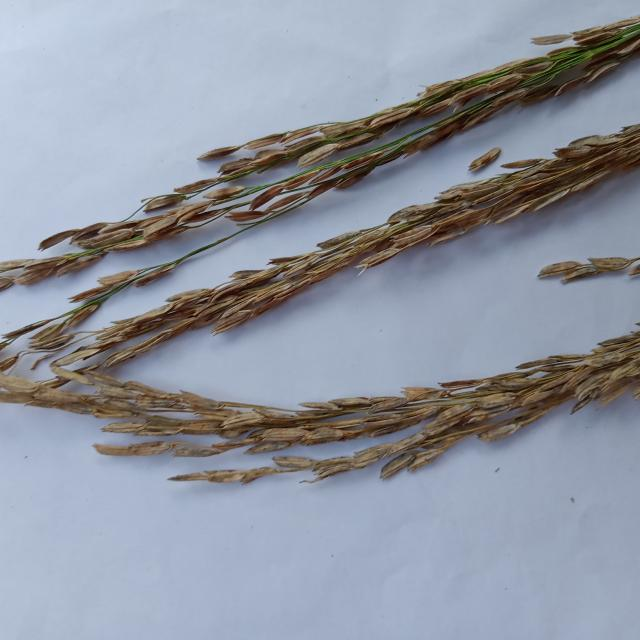Neck_Blast: (19, 17, 640, 290), (102, 121, 640, 364), (63, 328, 639, 475)
